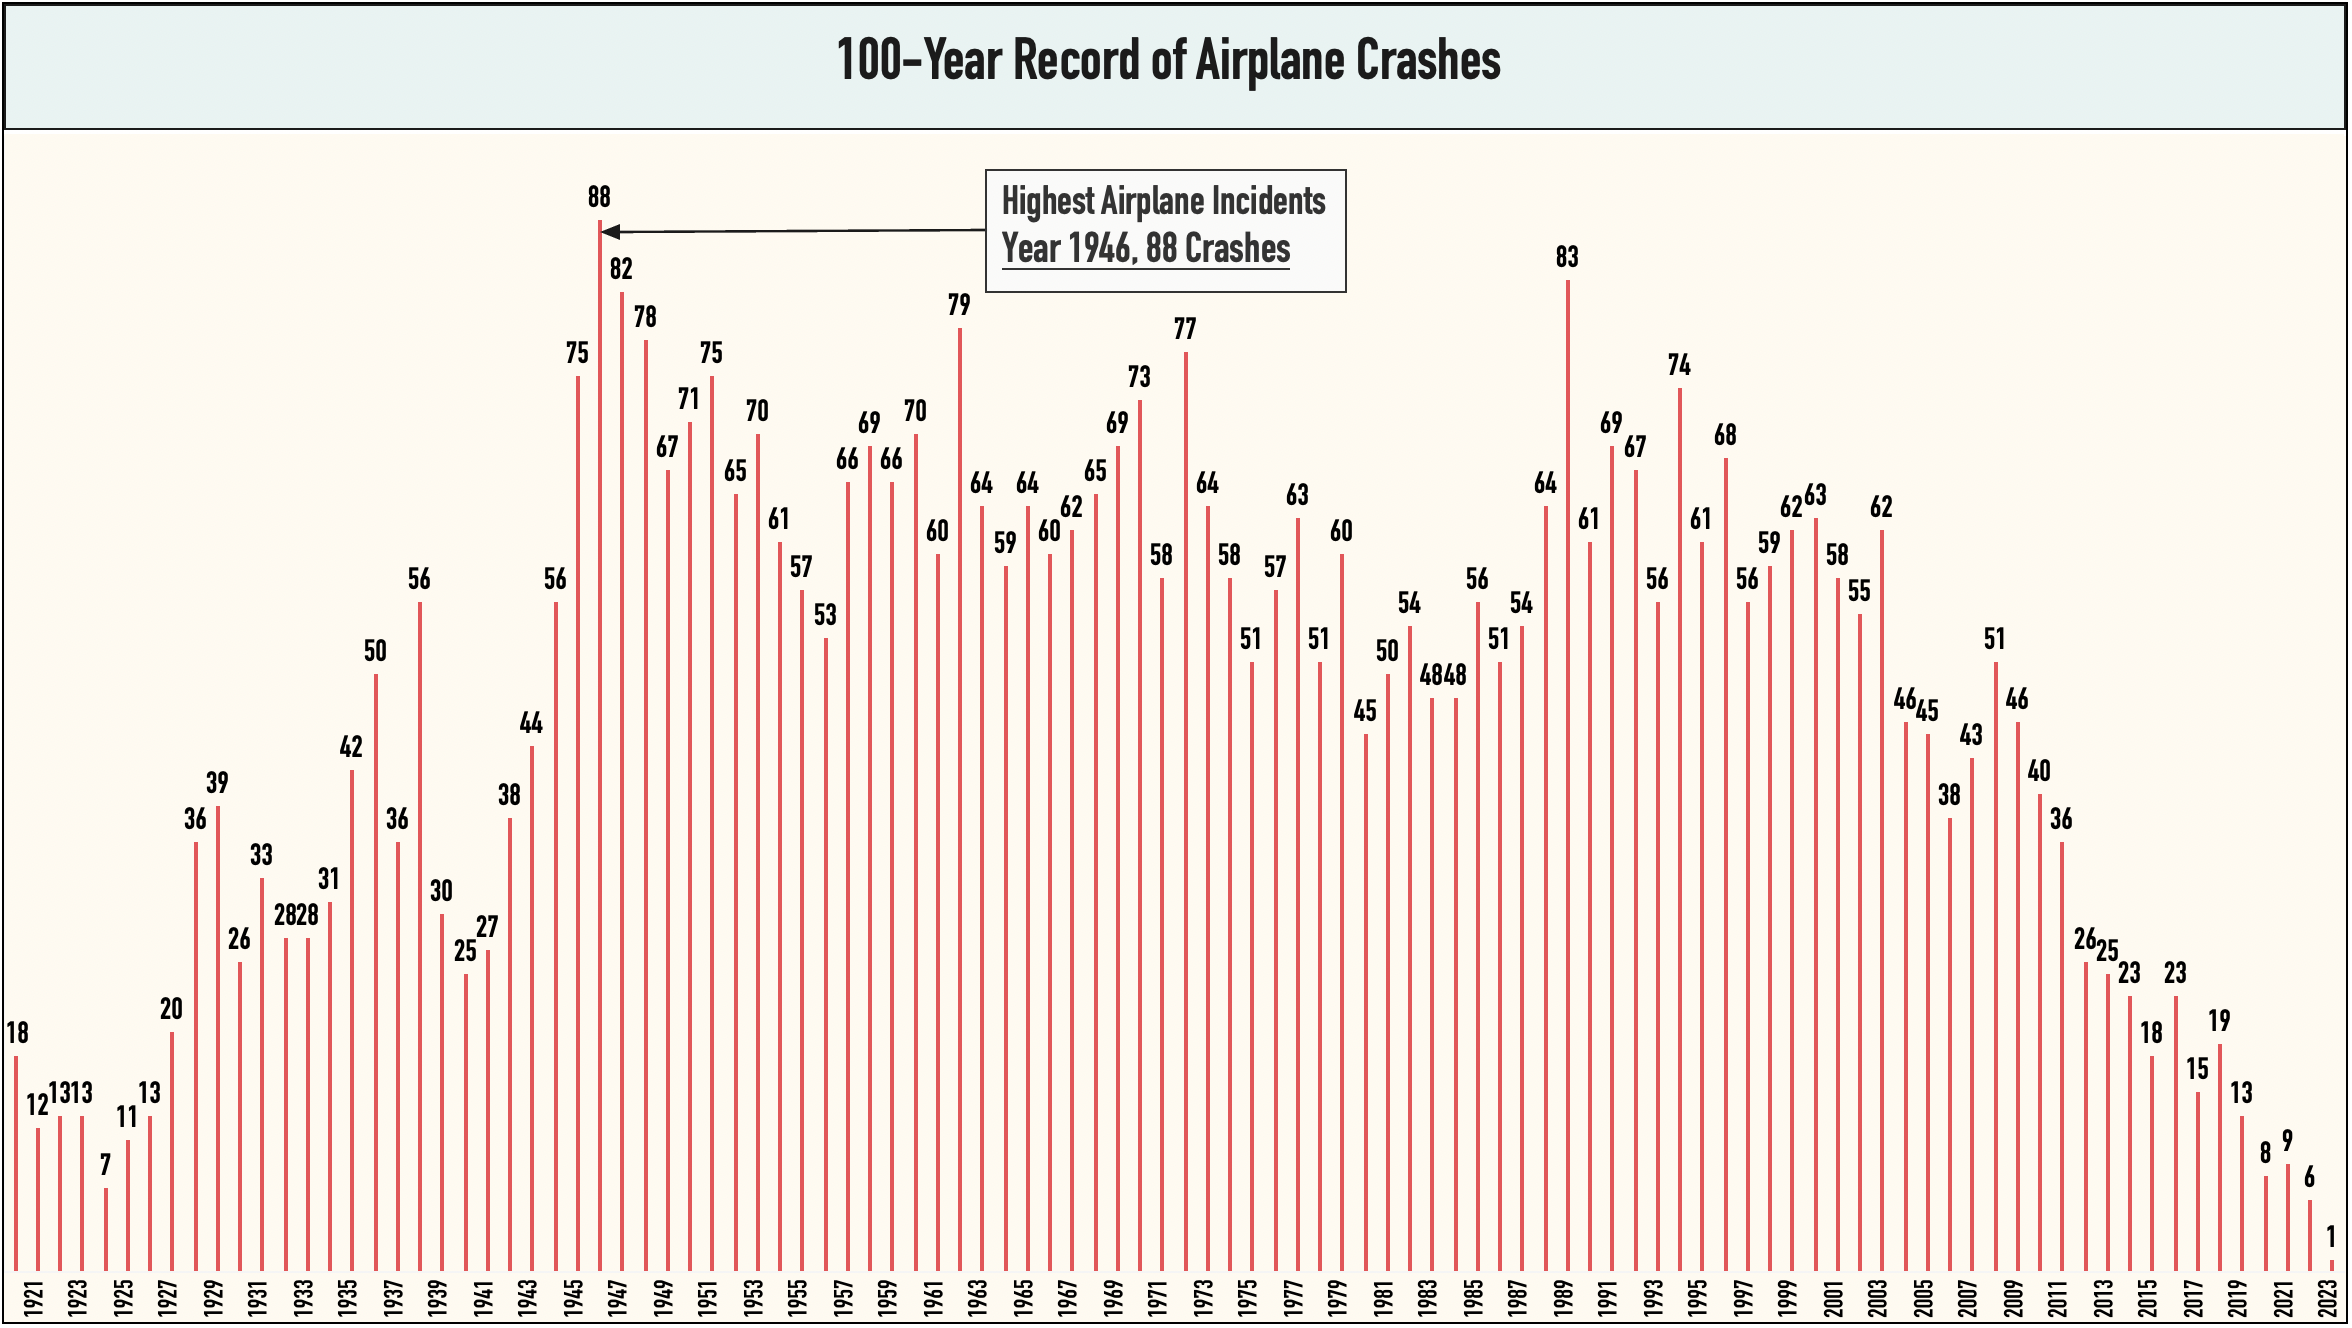

The dashboard page shown, as its layout file describes it:
{"tool":"tableau","page":{"name":"Dashborad Crash Trend","canvas":[1200,800],"ordinal":1},"visuals":[{"type":"worksheet","title":"Airplane Crash","mark":"Bar","rows":["Extract (Extract.Extract)_A0811B465A894F85A476DF5B5D53C182"],"cols":["Date"],"box":[12,13,1173,661]}]}

Visuals, with their boxes on the page's 1200x800 design canvas (x1, y1, x2, y2). These are canvas units, not pixel positions in the 2352x1328 screenshot, which may show the page scaled, cropped or inside an application window:
"Airplane Crash" worksheet (Bar marks): locate(12, 13, 1185, 674)
